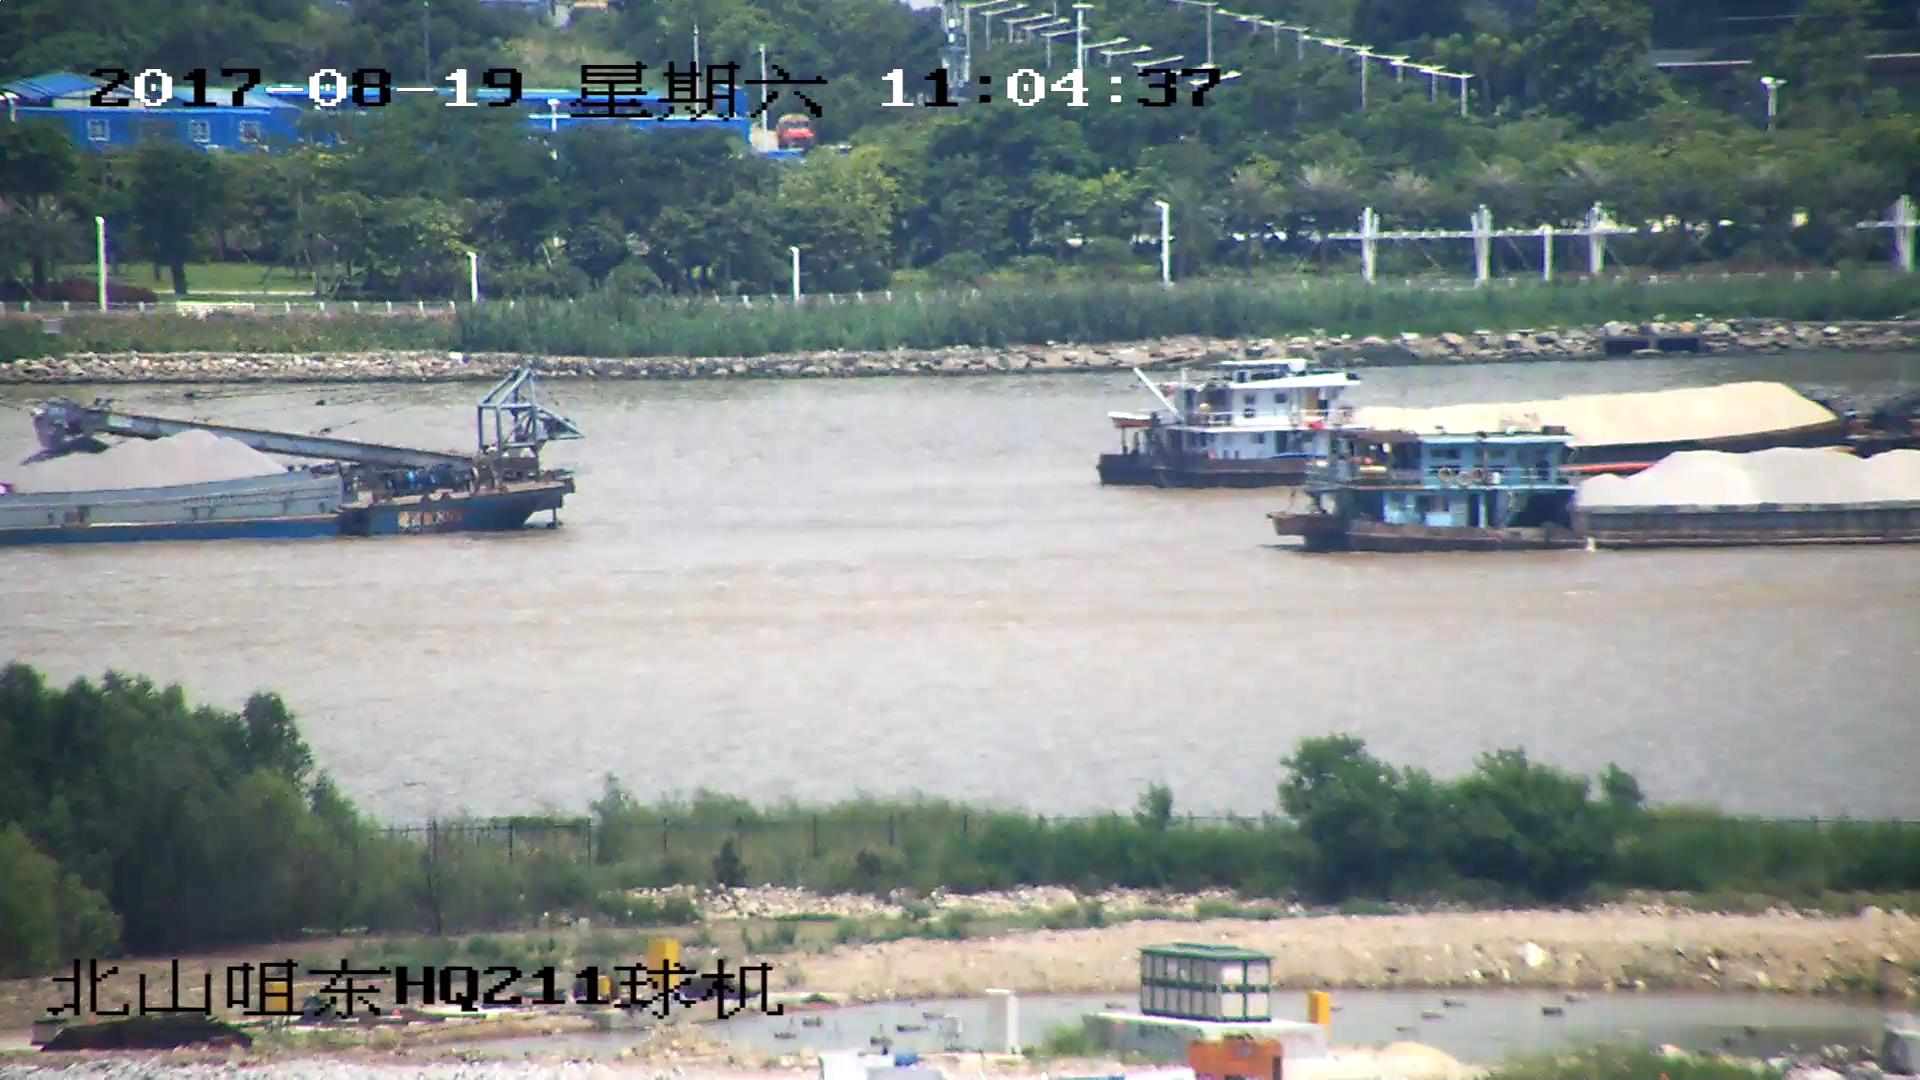ore carrier: (1101, 367, 1920, 490), (1, 370, 576, 544), (1279, 428, 1920, 553)
